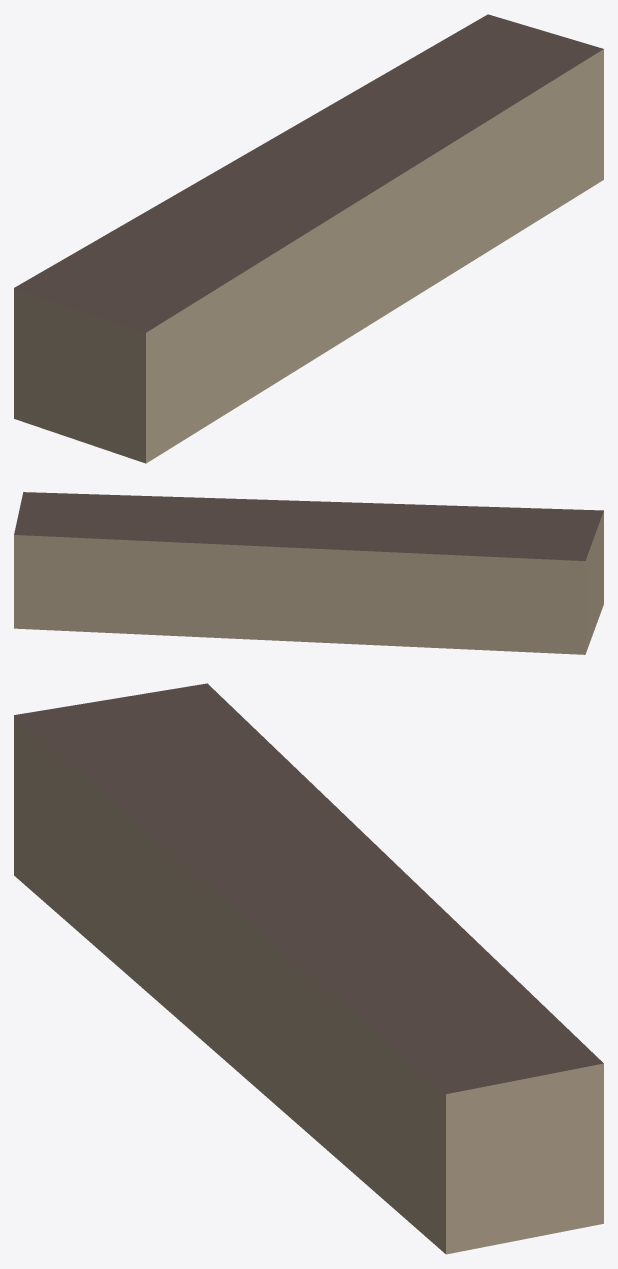
3 views of the same model, one above another, from view 1: azimuth 30°, elevation 25°; view 2: azimuth 150°, elevation 25°; view 3: azimuth 270°, elevation 25° (orthographic). The views are drawn at different scales.
Visible parts, largest first — view 1: HP-w1512459548; view 2: HP-w1512459548; view 3: HP-w1512459548.
Boxes of the visible parts, bbox=[...] form: HP-w1512459548: bbox=[14, 14, 603, 463]; HP-w1512459548: bbox=[14, 492, 603, 654]; HP-w1512459548: bbox=[14, 683, 603, 1254].
Bounding box in the file's own units: 49.47 × 9 × 30.02.
